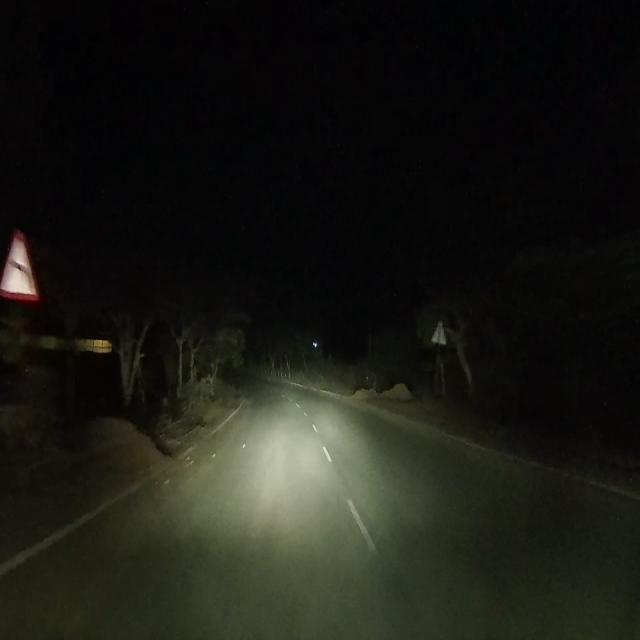left-hand-curve: (6, 228, 33, 296)
